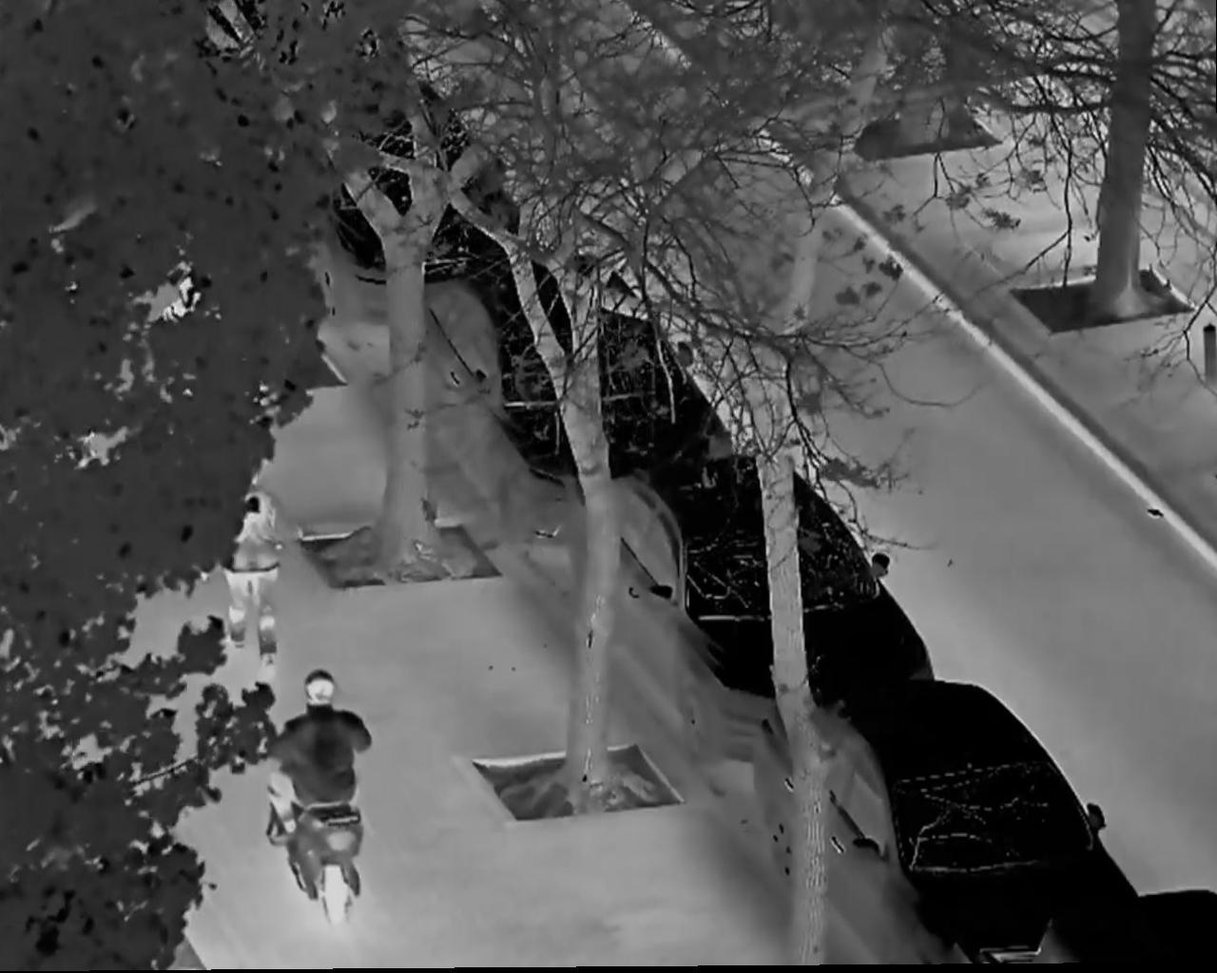person: (196, 457, 289, 674), (263, 669, 372, 854)
